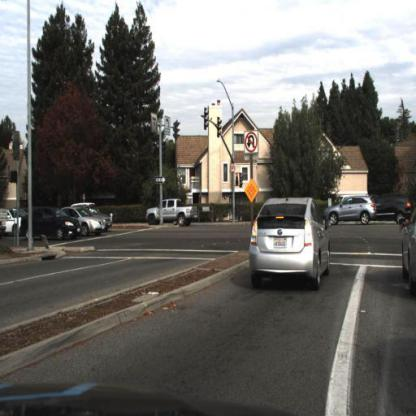car: (249, 197, 332, 287), (17, 203, 82, 246), (22, 207, 82, 242), (324, 194, 377, 231), (367, 192, 413, 224), (399, 208, 416, 293), (147, 199, 198, 225), (68, 207, 107, 234), (81, 210, 108, 248), (106, 208, 115, 231)
trafficLight-Red: (233, 170, 241, 188)
